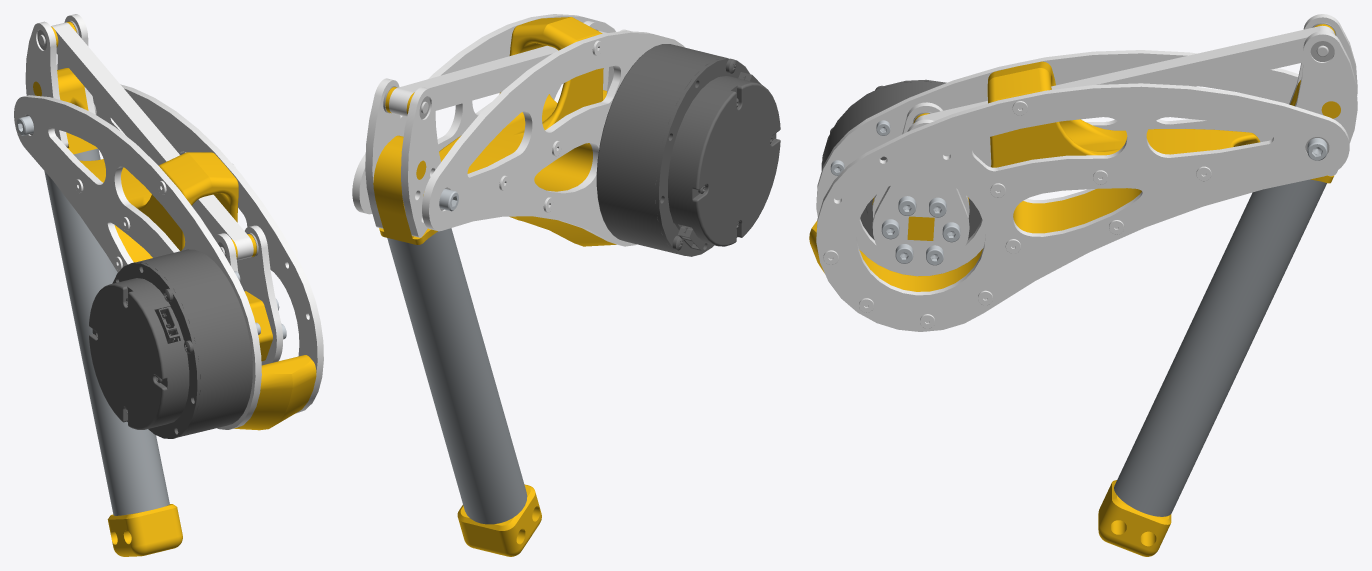
The model's file is Quadruped Leg.glb.
3 views of the same model, side by side, from view 1: azimuth 30°, elevation 25°; view 2: azimuth 150°, elevation 25°; view 3: azimuth 270°, elevation 25° (orthographic). The views are drawn at different scales.
Visible parts, largest first — view 1: Thigh Plate (×2), 1_1_06_EB673-524_1.stp, CF Tube, 1_1_06_EB673-516_1.stp, Thigh Fill, Knee Linkage, Foot socket, 1_1_04_EB672-503_1.stp, Knee Crank Plate (×2), Knee Plate (Thru), Knee Fill, Knee Crank Fill (+2 smaller); view 2: Thigh Plate (×2), CF Tube, 1_1_06_EB673-524_1.stp, 1_1_06_EB673-516_1.stp, Thigh Fill, Knee Linkage, Knee Plate (Thru), 1_1_04_EB672-503_1.stp, Knee Fill, Foot socket, Knee Plate (Tapped); view 3: Thigh Plate (×2), CF Tube, Thigh Fill, Knee Linkage, Knee Crank Plate (×2), Knee Plate (Tapped), Foot socket, 1_1_06_EB673-516_1.stp, Knee Plate (Thru).
Part boxes in pixels (x1,y1,x2,y2): Thigh Plate (×2): [14, 84, 323, 429]; 1_1_06_EB673-524_1.stp: [89, 278, 189, 429]; CF Tube: [44, 148, 169, 515]; 1_1_06_EB673-516_1.stp: [119, 249, 252, 437]; Thigh Fill: [79, 152, 316, 430]; Knee Linkage: [51, 22, 253, 260]; Foot socket: [107, 504, 182, 556]; 1_1_04_EB672-503_1.stp: [112, 262, 200, 438]; Knee Crank Plate (×2): [213, 225, 283, 365]; Knee Plate (Thru): [25, 21, 68, 147]; Knee Fill: [33, 68, 97, 154]; Knee Crank Fill: [244, 291, 272, 361]; Thigh Plate (×2): [352, 14, 684, 246]; CF Tube: [387, 228, 527, 524]; 1_1_06_EB673-524_1.stp: [668, 76, 780, 246]; 1_1_06_EB673-516_1.stp: [596, 44, 728, 255]; Thigh Fill: [439, 17, 616, 246]; Knee Linkage: [389, 31, 607, 116]; Knee Plate (Thru): [401, 87, 440, 237]; 1_1_04_EB672-503_1.stp: [655, 58, 749, 256]; Knee Fill: [373, 135, 437, 244]; Foot socket: [457, 484, 541, 556]; Knee Plate (Tapped): [365, 78, 402, 228]; Thigh Plate (×2): [816, 50, 1349, 331]; CF Tube: [1114, 179, 1326, 516]; Thigh Fill: [809, 61, 1260, 291]; Knee Linkage: [914, 25, 1334, 122]; Knee Crank Plate (×2): [872, 102, 969, 272]; Knee Plate (Tapped): [1295, 31, 1357, 176]; Foot socket: [1098, 480, 1171, 556]; 1_1_06_EB673-516_1.stp: [821, 81, 981, 239]; Knee Plate (Thru): [1289, 14, 1357, 104].
Size of the model in its own units: 0.0798 by 0.2272 by 0.2157.
